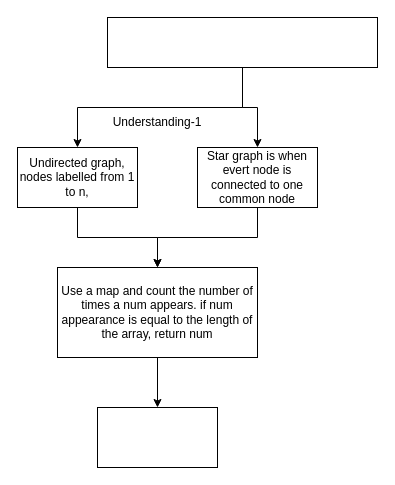
Image size: 395x485. Some labels were removed from this diagram. The shapes that lost their labels are listed below. From the top down, each one's centre as x and y in pixels, then its label:
At point 242,42: "1791. Find Center of Star Graph".
At point 157,437: "Correct solution".
